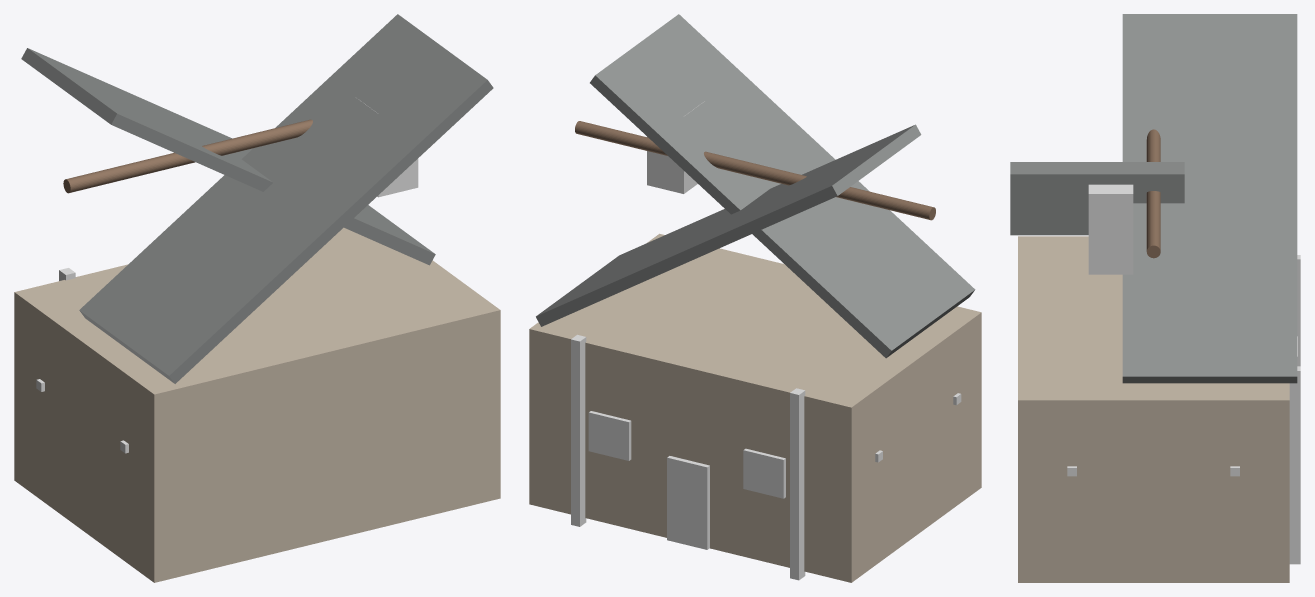
The model's file is house.glb.
The picture shows the model from 3 angles, left to right: view 1: azimuth 30°, elevation 25°; view 2: azimuth 150°, elevation 25°; view 3: azimuth 270°, elevation 25°; orthographic projection. The views are drawn at different scales.
Visible parts, largest first — view 1: world; view 2: world; view 3: world.
Boxes of the visible parts, x1=… form: world: x1=14, y1=14, x2=500, y2=582; world: x1=529, y1=14, x2=981, y2=582; world: x1=1010, y1=14, x2=1300, y2=582.
Size of the model in its own units: 11 by 11.9 by 7.49.
